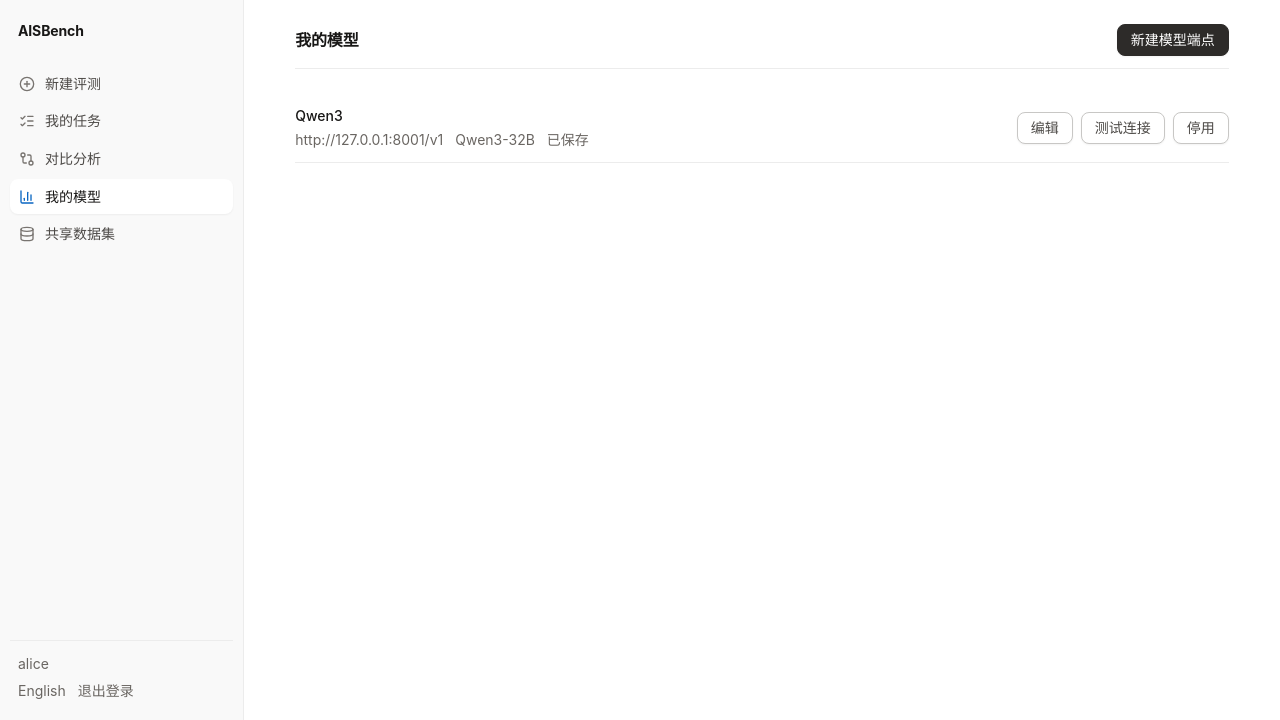
it: my models › asks only for an address and a key
Step 1. Click the button "新建模型端点" → [1173, 40], box [1117,24,1229,56]
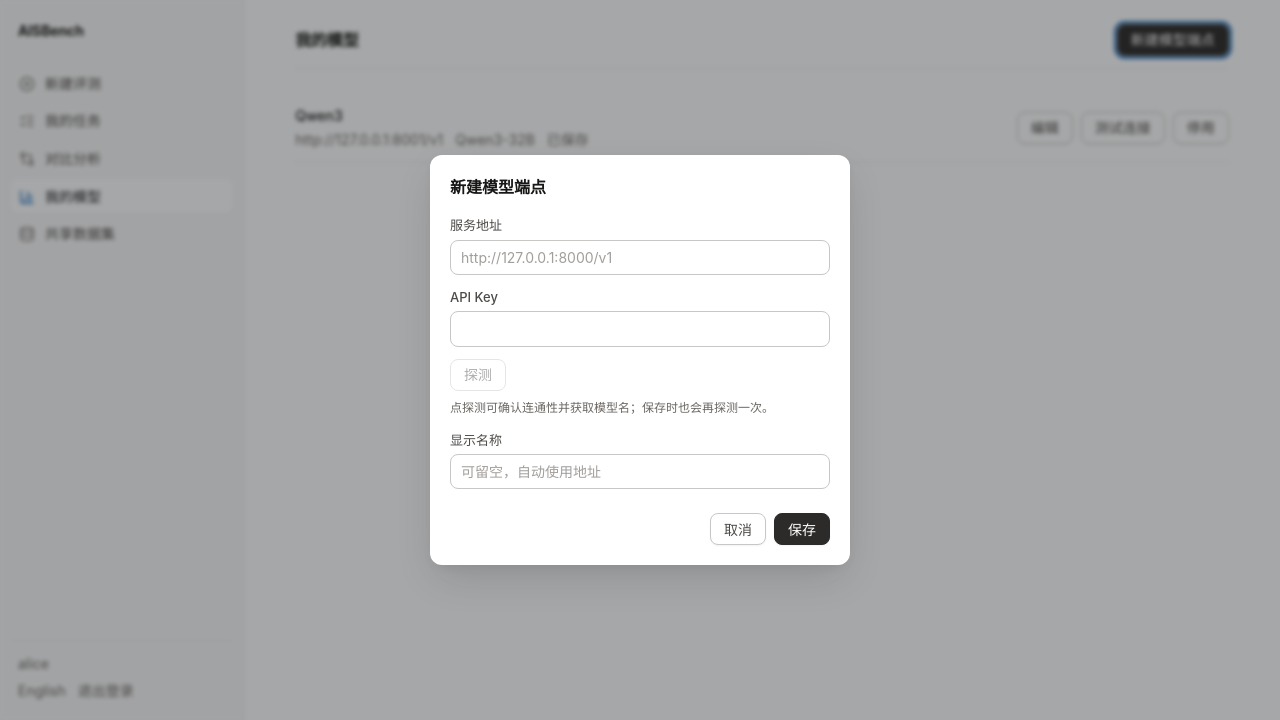
Result: the password field labelled "API Key" is shown at [450,311,830,347]
